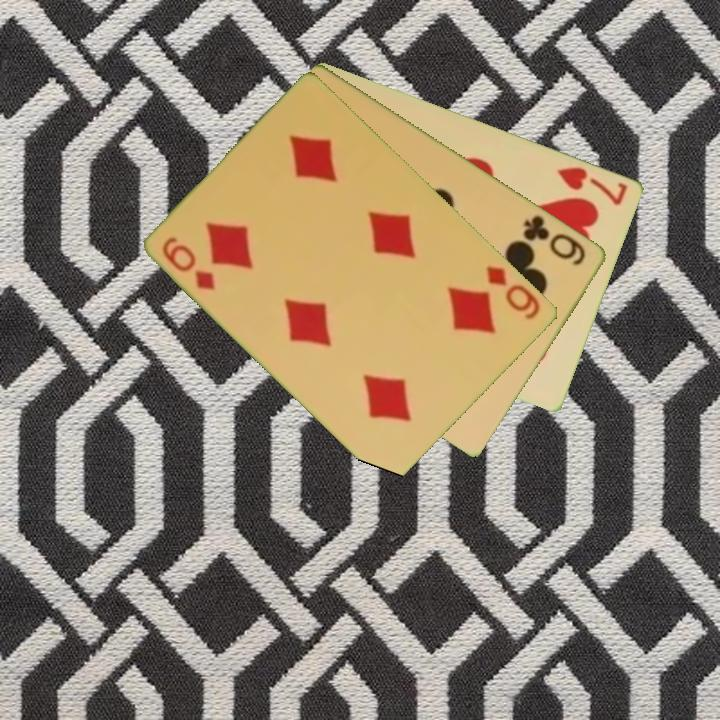6c: (520, 211, 589, 269)
6d: (483, 262, 544, 323), (159, 233, 219, 294)
7h: (554, 163, 631, 208)
